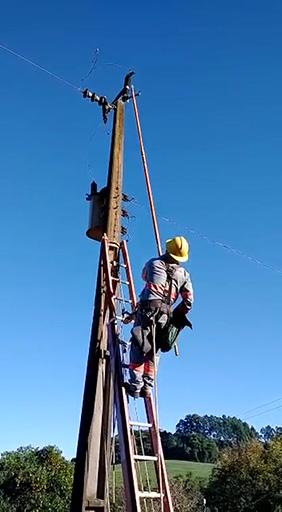Vara_Manobra: (128, 89, 161, 257)
